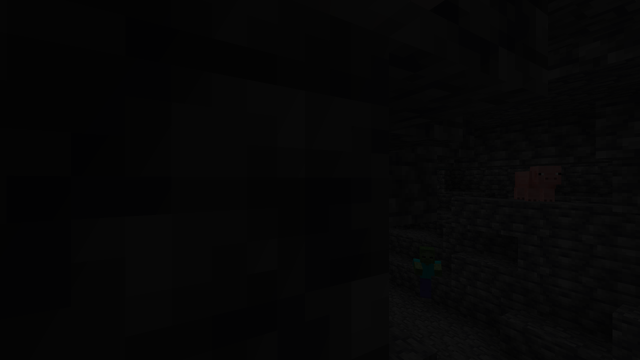cochons: (509, 169, 558, 201)
zombies: (415, 246, 438, 304)
